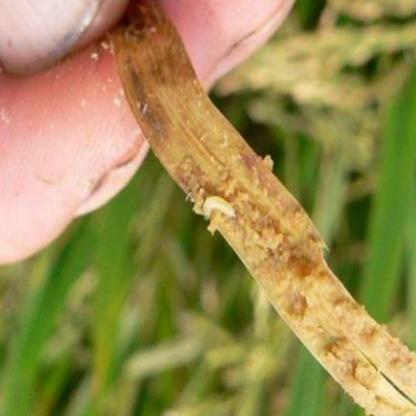whorl-maggot: (202, 191, 242, 228)
